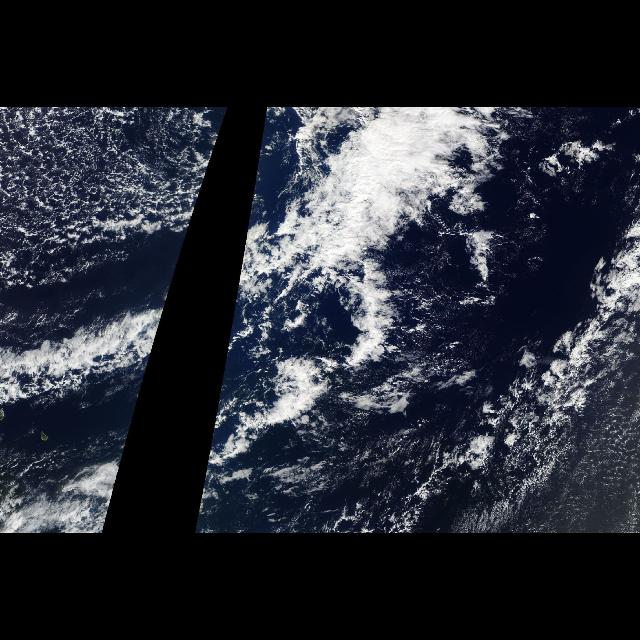Fish: (7, 289, 171, 405)
Gravel: (0, 107, 216, 259)
Sugar: (460, 401, 640, 534)
